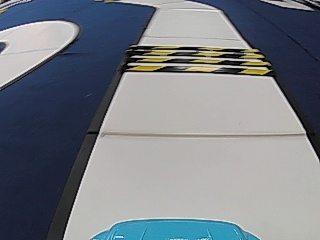bump: (140, 44, 248, 74)
